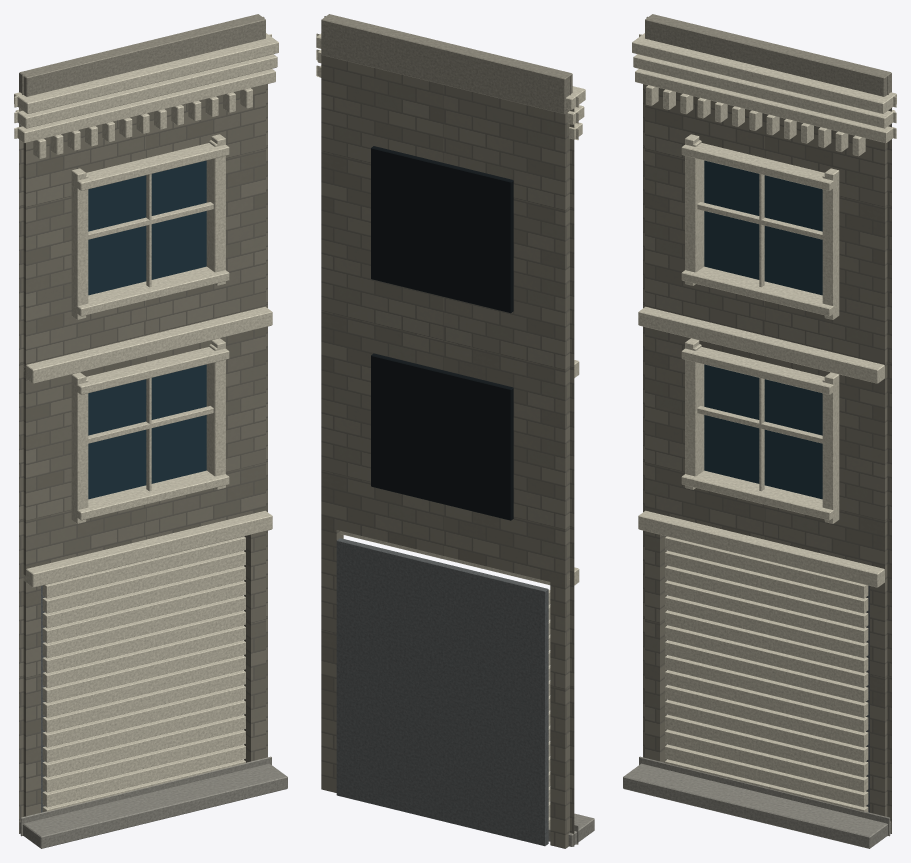
Rendered from VICT32_lod1.glb.
The picture shows the model from 3 angles, left to right: view 1: azimuth 30°, elevation 25°; view 2: azimuth 150°, elevation 25°; view 3: azimuth 330°, elevation 25°; orthographic projection.
Visible parts, largest first — view 1: VICT32_FRONT_LOD1; view 2: VICT32_FRONT_LOD1; view 3: VICT32_FRONT_LOD1.
Part boxes in pixels (x1=…): VICT32_FRONT_LOD1: x1=14, y1=14, x2=287, y2=848; VICT32_FRONT_LOD1: x1=316, y1=14, x2=594, y2=848; VICT32_FRONT_LOD1: x1=623, y1=14, x2=896, y2=848.
Size of the model in its own units: 3.44 by 9.66 by 0.65.
7 materials, 5 textured.
